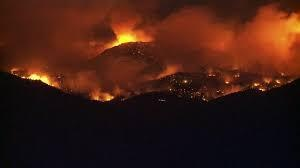fire: (102, 27, 153, 51), (10, 66, 62, 89), (252, 75, 280, 92), (90, 87, 115, 102)
